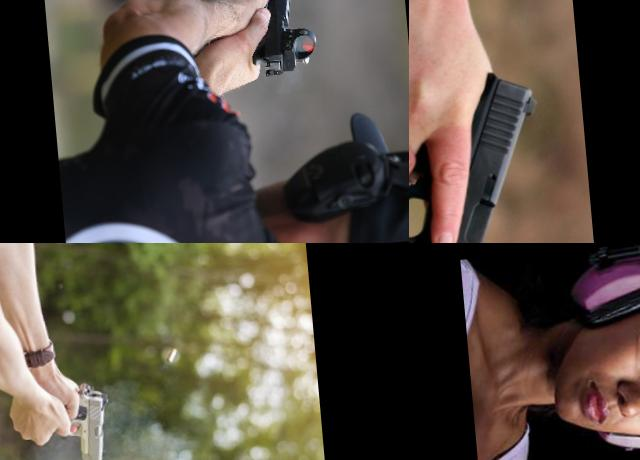handgun: (409, 67, 553, 243), (224, 0, 321, 83), (50, 378, 116, 460)
